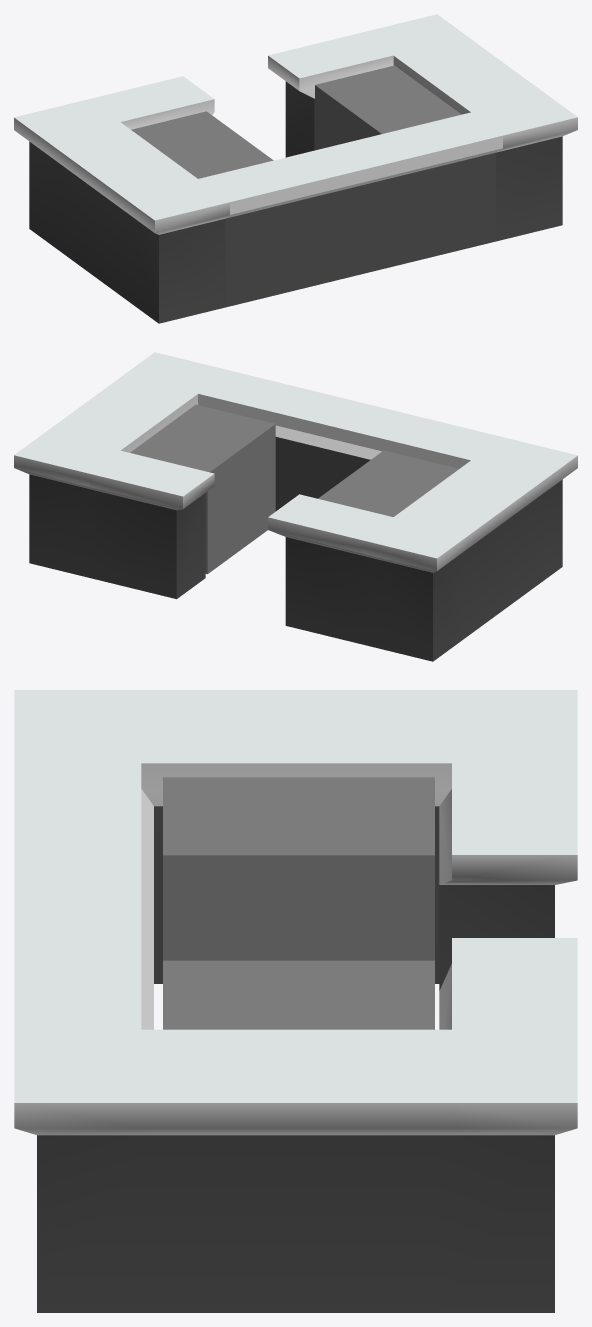
Rendered from Tepanyaki_table.fbx.
3 renders of one model, top to bottom at view 1: azimuth 30°, elevation 25°; view 2: azimuth 150°, elevation 25°; view 3: azimuth 270°, elevation 25°, orthographic. The views are drawn at different scales.
Parts seen in each view (by area): view 1: polySurface4; view 2: polySurface4; view 3: polySurface4.
Part boxes in pixels (<box>): polySurface4: <box>14,14,577,323</box>; polySurface4: <box>14,352,577,661</box>; polySurface4: <box>14,690,577,1312</box>.
Bounding box in the file's own units: 59.97 × 14.87 × 34.57.
